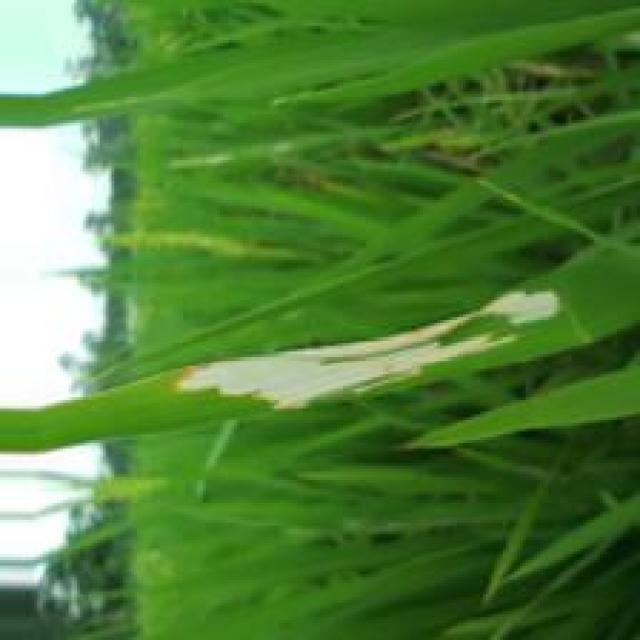Rice_Hispa: (170, 290, 563, 410)
